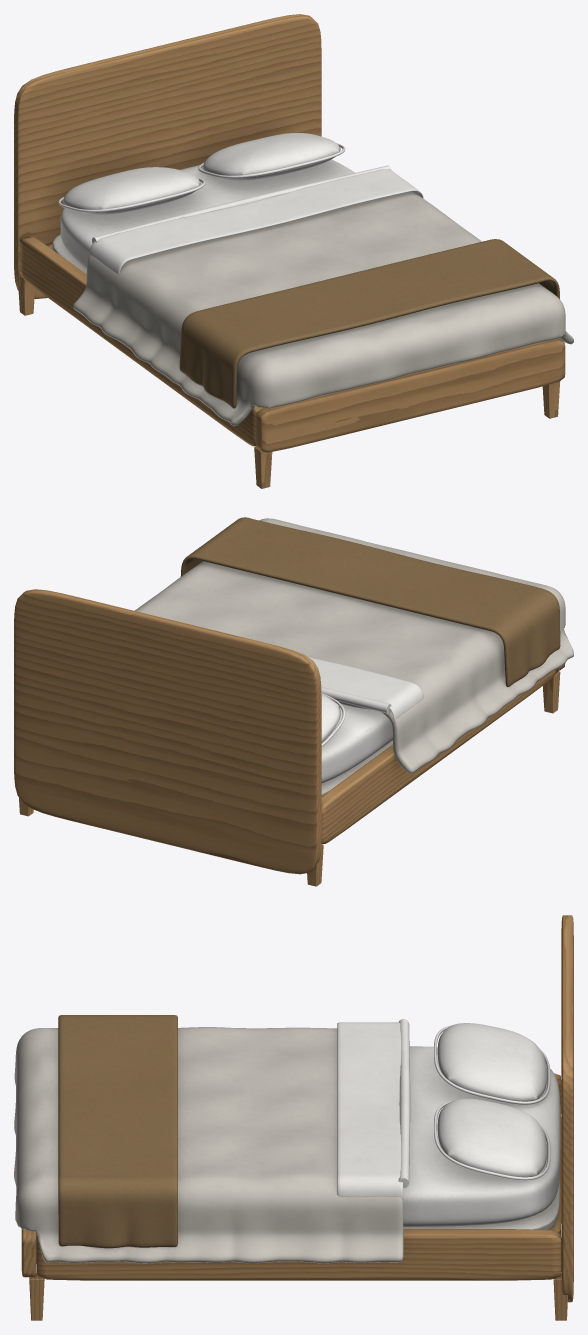
The model's file is oak-double.glb.
3 views of the same model, one above another, from view 1: azimuth 30°, elevation 25°; view 2: azimuth 150°, elevation 25°; view 3: azimuth 270°, elevation 25° (orthographic). The views are drawn at different scales.
Visible parts, largest first — view 1: wood_h, fabric_secondary_duvet, throw_knit, sheet_cotton, pillow_fabric, wood_hy, wood_v; view 2: wood_h, fabric_secondary_duvet, throw_knit, sheet_cotton, wood_hy, wood_v, pillow_fabric, mattress_ticking; view 3: fabric_secondary_duvet, throw_knit, sheet_cotton, wood_hy, pillow_fabric, wood_h, mattress_ticking, wood_v.
Boxes of the visible parts, x1,y1,x2,y2 form: wood_h: (14, 14, 565, 452); fabric_secondary_duvet: (73, 191, 573, 426); throw_knit: (179, 239, 559, 408); sheet_cotton: (60, 159, 423, 273); pillow_fabric: (58, 133, 345, 214); wood_hy: (20, 237, 263, 446); wood_v: (18, 275, 560, 488); wood_h: (14, 589, 565, 874); fabric_secondary_duvet: (134, 518, 573, 773); throw_knit: (180, 517, 560, 686); sheet_cotton: (308, 657, 423, 783); wood_hy: (321, 668, 557, 843); wood_v: (19, 671, 560, 886); pillow_fabric: (321, 693, 345, 746); mattress_ticking: (321, 740, 392, 796); fabric_secondary_duvet: (14, 1027, 403, 1263); throw_knit: (58, 1015, 177, 1248); sheet_cotton: (337, 1019, 560, 1226); wood_hy: (37, 1073, 561, 1280); pillow_fabric: (434, 1023, 550, 1180); wood_h: (21, 915, 573, 1302); mattress_ticking: (403, 1178, 559, 1229); wood_v: (29, 1273, 567, 1320).
Bounding box in the file's own units: 1.73 × 1.1 × 2.19.
Materials: 8 (8 with a texture image).
